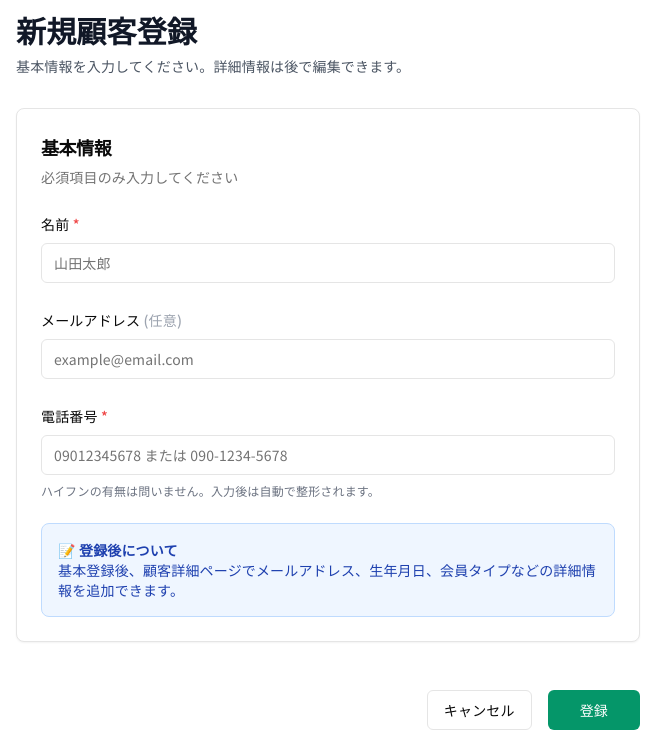
NewCustomerContent › rejects a non-writable phone before submitting the full form: 090-123-4567
In the field labelled "名前 *": (328, 263) [41, 243, 615, 283], type "入力確認"
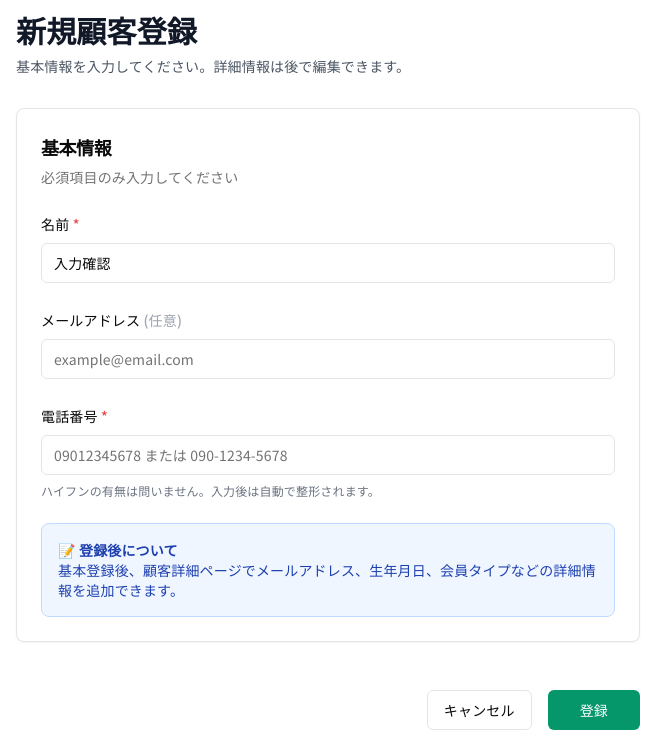
In the field labelled "電話番号 *": (328, 455) [41, 435, 615, 475], type "090-123-4567"
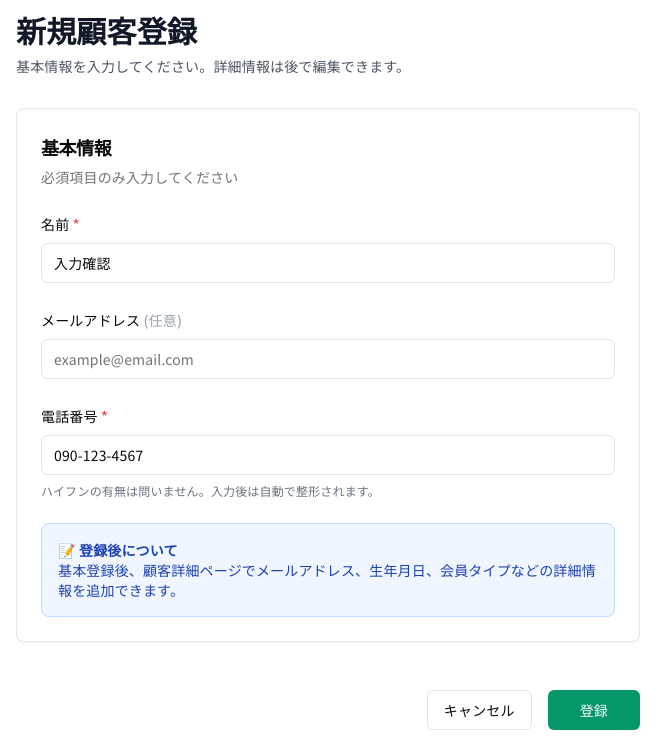
Click the button "登録": click(594, 710) [548, 690, 640, 730]
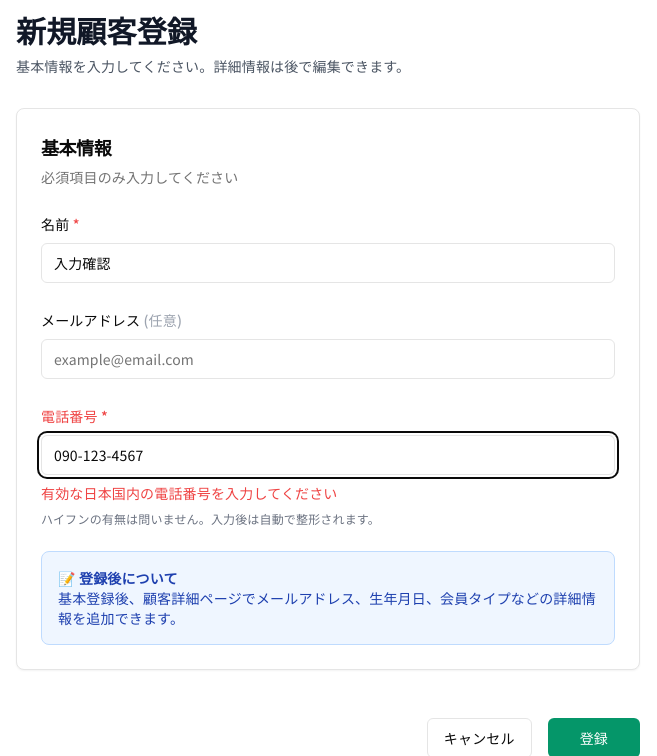
Result: the text "有効な日本国内の電話番号を入力してください" is shown at [41, 483, 338, 503]
